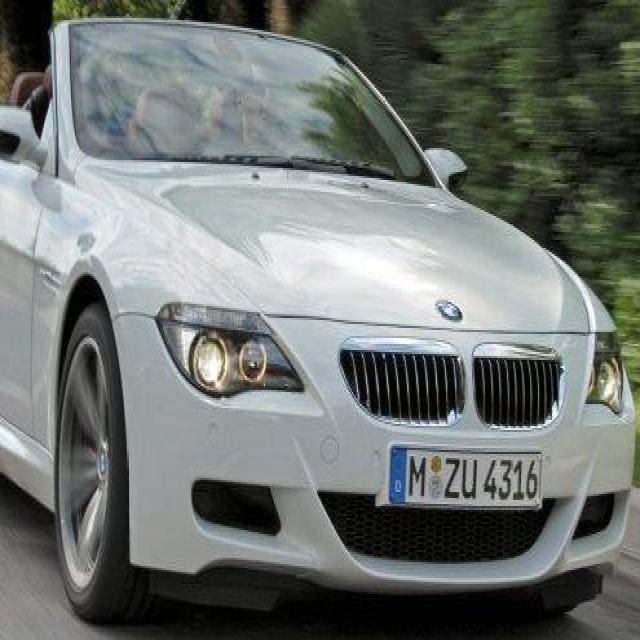Car: (7, 16, 638, 640)
